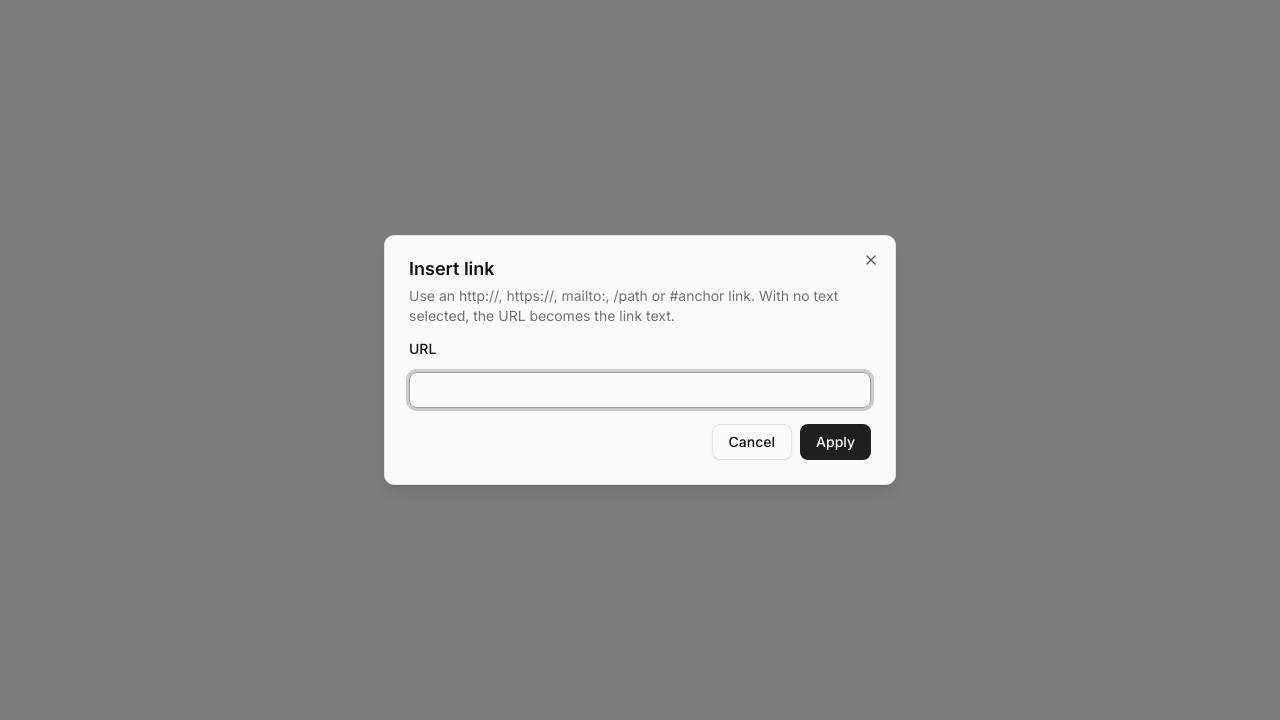
Test: uses the custom policy description for invalid link feedback
Type "javascript:alert(1)" into the field labelled "URL" at (640, 390), box [409,372,871,408]
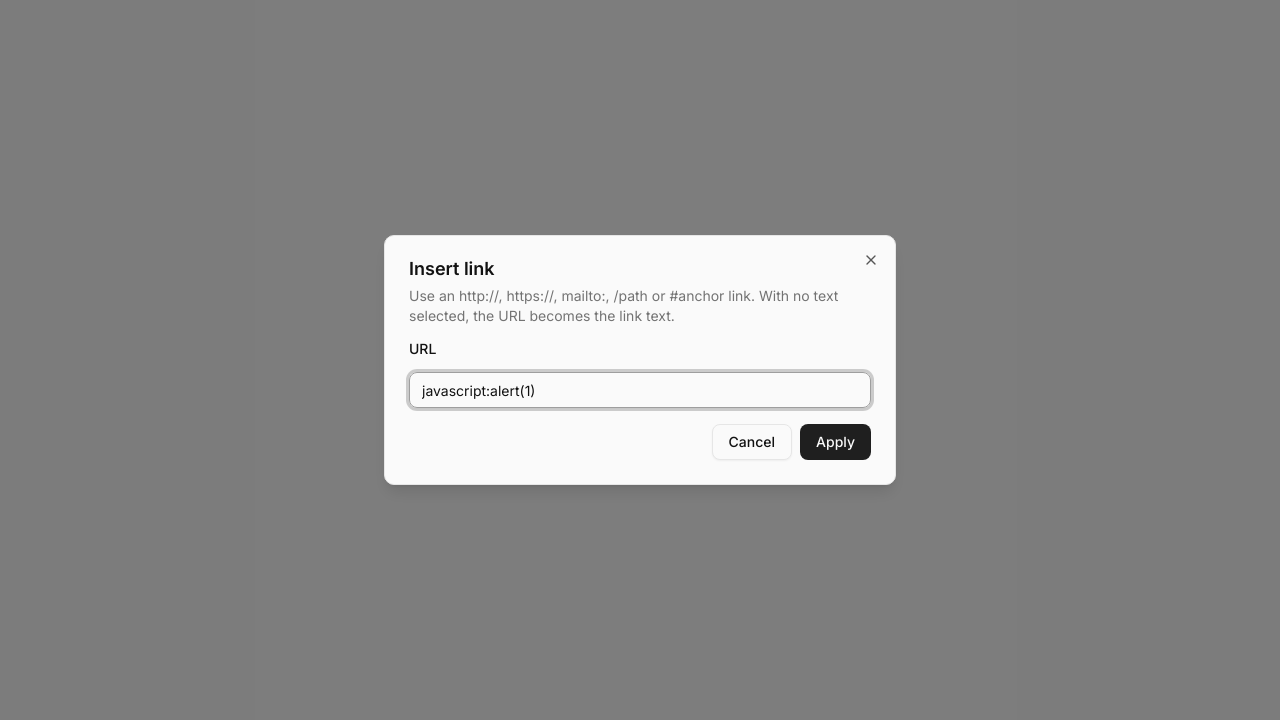
Click the button "Apply" at (836, 442), box [800,424,871,460]
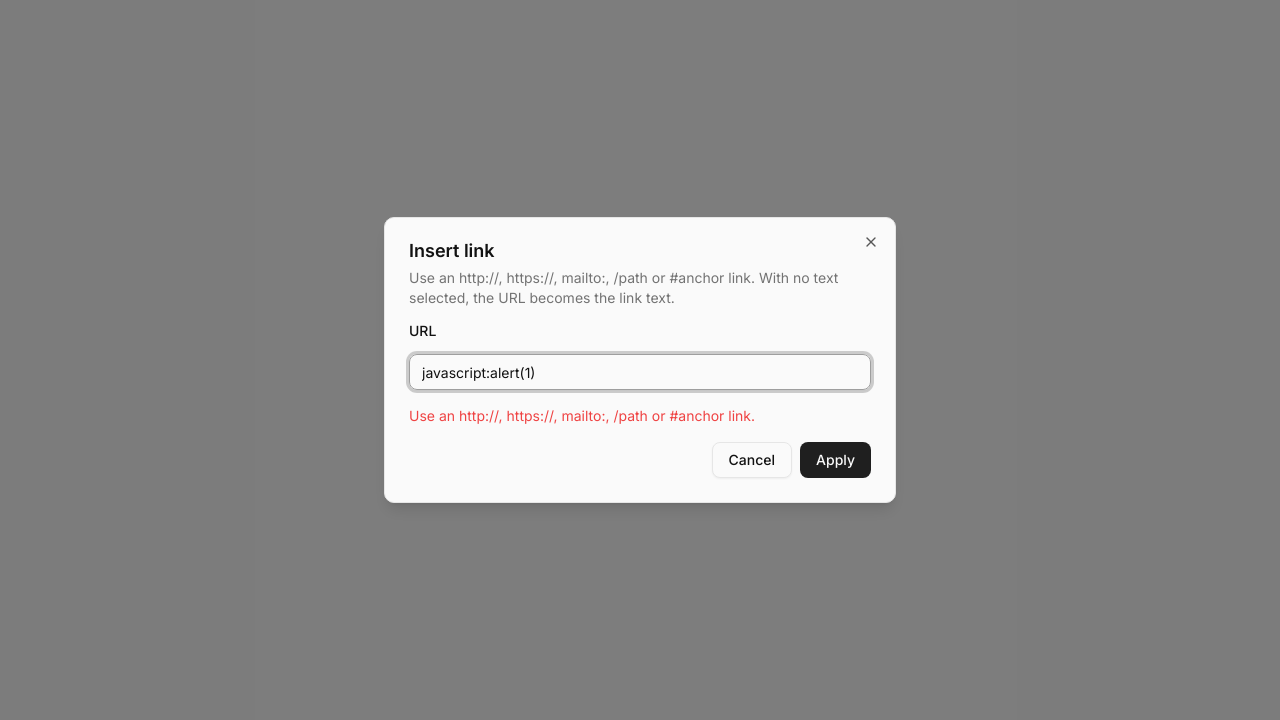
Expected: the message reads "Use an http://, https://, mailto:, /path or #anchor link.", [409,407,755,424]
